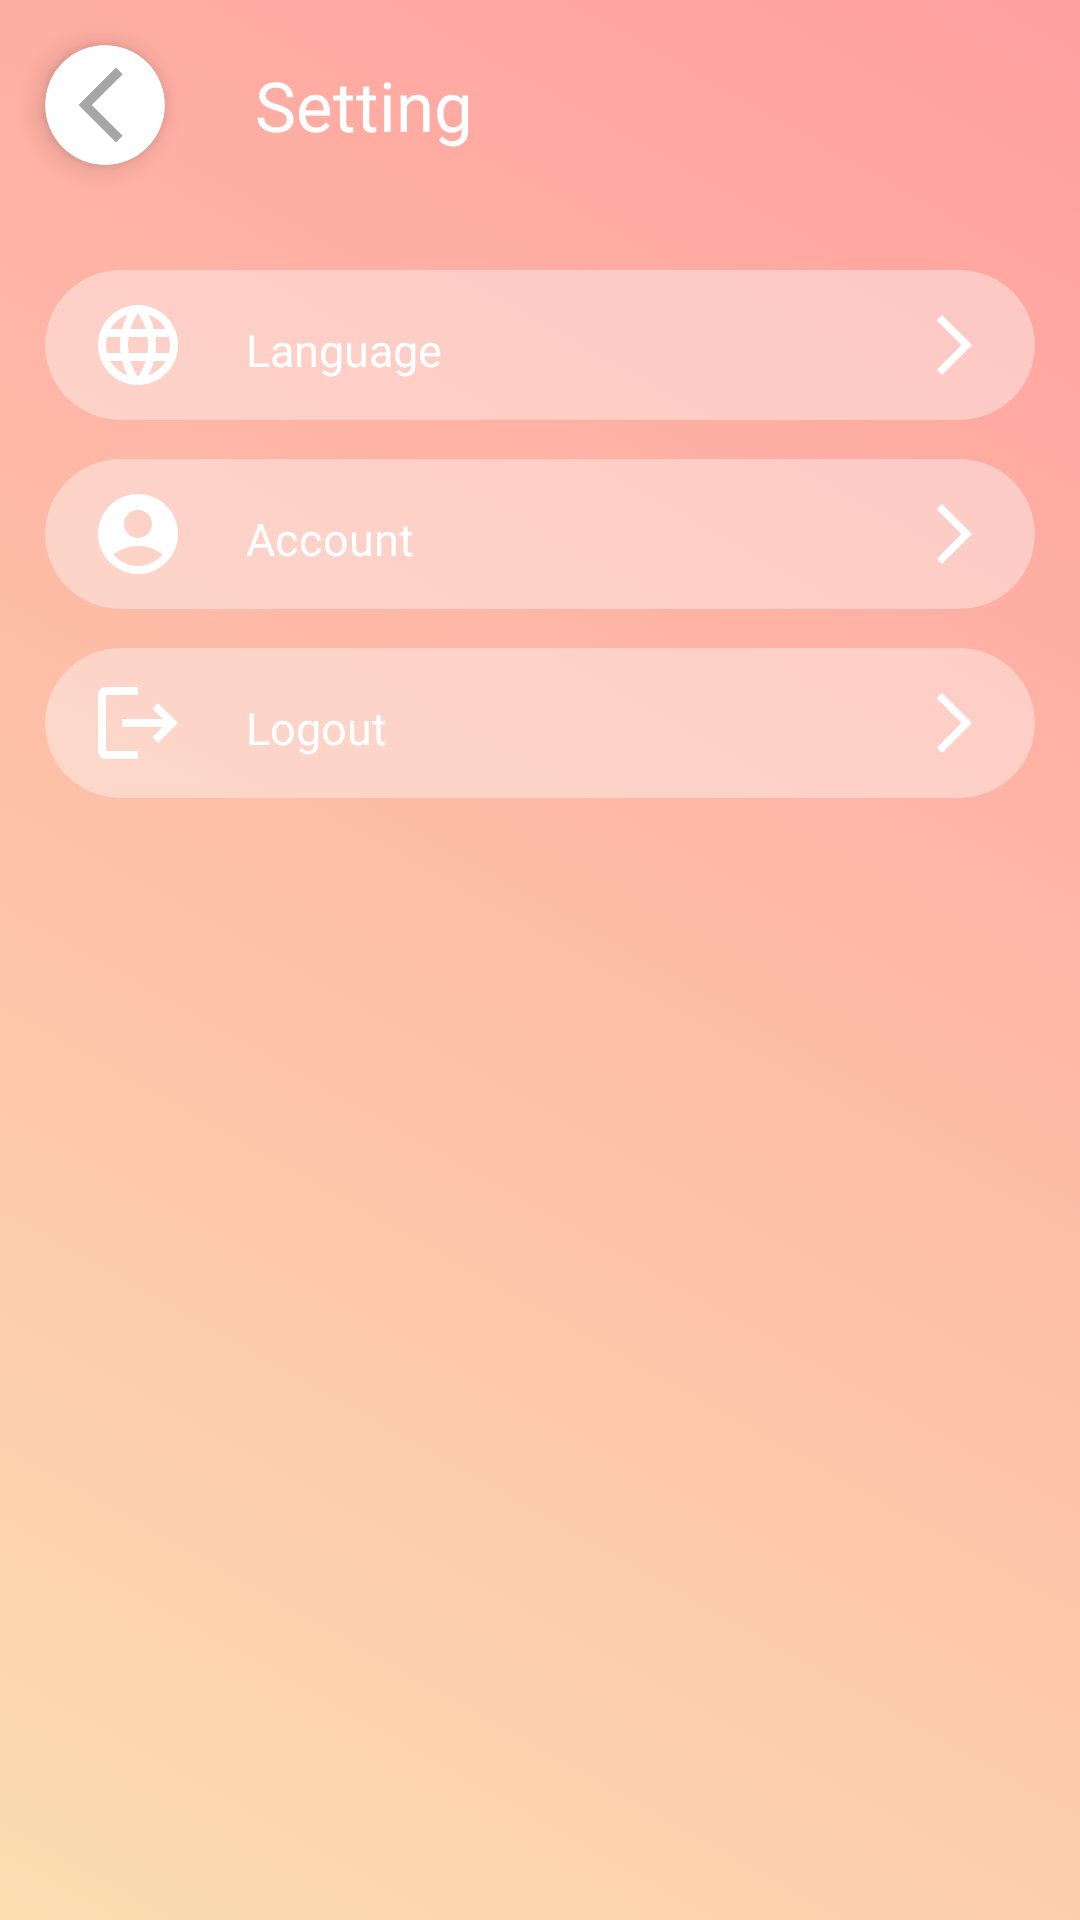

Icons on this 1080w x 1920h Android screen, each with its box as (x1, y1, x2, y2):
arrow left: (79, 68, 123, 142)
arrow right: (937, 315, 972, 375), (937, 504, 972, 564), (937, 693, 972, 753)
